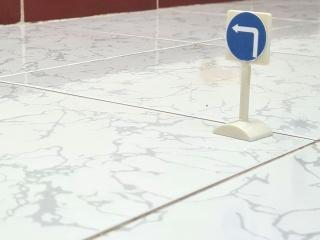left: (217, 5, 273, 69)
